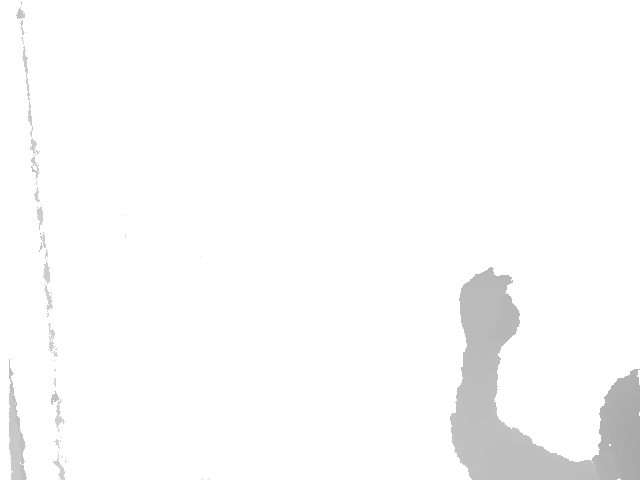hand: (459, 267, 521, 345)
person: (449, 267, 640, 479)
